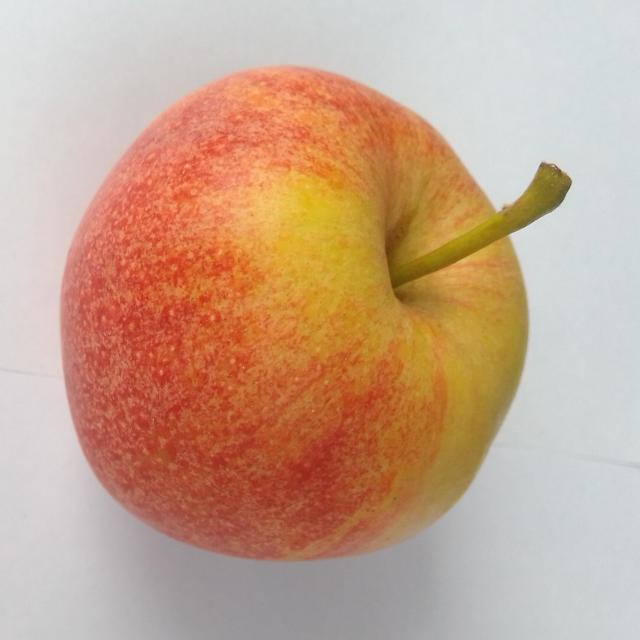apple: (62, 67, 527, 559)
